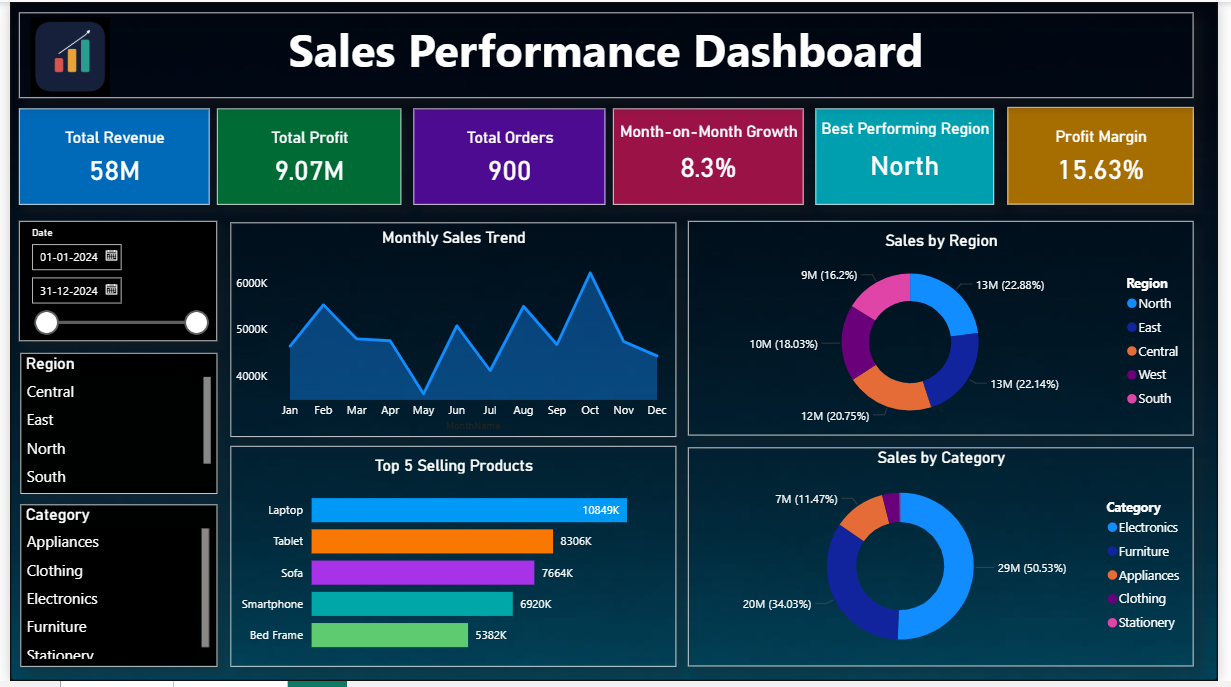

The dashboard page shown, as its layout file describes it:
{"tool":"powerbi","page":{"name":"Page 1","canvas":[1280,720],"ordinal":0},"visuals":[{"type":"card","title":"Total Revenue","fields":{"Values":["Business_Sales_Data_2024.Total_Revenue"]},"box":[9.5,112.9,202,101.8],"z":0},{"type":"card","title":"Total Profit","fields":{"Values":["Sum(Business_Sales_Data_2024.Profit)"]},"box":[219.5,112.9,195.6,101.8],"z":1000},{"type":"card","title":"Total Orders","fields":{"Values":["Business_Sales_Data_2024.Total_Orders"]},"box":[427.9,112.9,203.6,101.8],"z":2000},{"type":"card","title":"Month-on-Month Growth","fields":{"Values":["Business_Sales_Data_2024.MoM_Growth %"]},"box":[639.4,112.9,202,101.8],"z":3000},{"type":"card","title":"Best Performing Region","fields":{"Values":["Business_Sales_Data_2024.Best_Performing_Region"]},"box":[854.2,112.9,189.3,101.8],"z":4000},{"type":"card","title":"Profit Margin","fields":{"Values":["Business_Sales_Data_2024.Profit_Margin %"]},"box":[1057.8,111.3,197.2,103.4],"z":5000},{"type":"lineChart","title":"Monthly Sales Trend","fields":{"Y":["Sum(Business_Sales_Data_2024.Revenue)"],"Category":["DateTable.MonthName"]},"box":[233.8,233.8,472.4,227.5],"z":6000},{"type":"clusteredBarChart","title":" Top 5 Selling Products","fields":{"Category":["Business_Sales_Data_2024.Product"],"Y":["Sum(Business_Sales_Data_2024.Revenue)"]},"box":[233.8,470.8,472.4,233.8],"z":7000},{"type":"donutChart","title":" Sales by Region","fields":{"Category":["Business_Sales_Data_2024.Region"],"Y":["Sum(Business_Sales_Data_2024.Revenue)"]},"box":[719,232.2,536,227.5],"z":8000},{"type":"donutChart","title":"Sales by Category","fields":{"Y":["Sum(Business_Sales_Data_2024.Revenue)"],"Category":["Business_Sales_Data_2024.Category"]},"box":[719,472.4,536,232.2],"z":9000},{"type":"listSlicer","fields":{"Values":["Business_Sales_Data_2024.Region"]},"box":[11.1,372.2,208.4,149.5],"z":10000},{"type":"slicer","fields":{"Values":["DateTable.Date"]},"box":[9.5,232.2,210,127.2],"z":11000},{"type":"textbox","box":[9.5,11.1,1245.4,90.7],"z":12000},{"type":"image","box":[11.1,15.9,105,84.3],"z":13000},{"type":"listSlicer","fields":{"Values":["Business_Sales_Data_2024.Category"]},"box":[11.1,532.9,208.4,171.8],"z":14000}]}

Visuals, with their boxes in screenshot pixels (x1, y1, x2, y2), scaled from the page's 1280x720 canvas onto the 1231x687 screenshot:
"Total Revenue" card: {"left": 9, "top": 108, "right": 203, "bottom": 205}
"Total Profit" card: {"left": 211, "top": 108, "right": 399, "bottom": 205}
"Total Orders" card: {"left": 412, "top": 108, "right": 607, "bottom": 205}
"Month-on-Month Growth" card: {"left": 615, "top": 108, "right": 809, "bottom": 205}
"Best Performing Region" card: {"left": 822, "top": 108, "right": 1004, "bottom": 205}
"Profit Margin" card: {"left": 1017, "top": 106, "right": 1207, "bottom": 205}
"Monthly Sales Trend" lineChart: {"left": 225, "top": 223, "right": 679, "bottom": 440}
" Top 5 Selling Products" clusteredBarChart: {"left": 225, "top": 449, "right": 679, "bottom": 672}
" Sales by Region" donutChart: {"left": 691, "top": 222, "right": 1207, "bottom": 439}
"Sales by Category" donutChart: {"left": 691, "top": 451, "right": 1207, "bottom": 672}
listSlicer - Business_Sales_Data_2024.Region: {"left": 11, "top": 355, "right": 211, "bottom": 498}
slicer - DateTable.Date: {"left": 9, "top": 222, "right": 211, "bottom": 343}
textbox: {"left": 9, "top": 11, "right": 1207, "bottom": 97}
image: {"left": 11, "top": 15, "right": 112, "bottom": 96}
listSlicer - Business_Sales_Data_2024.Category: {"left": 11, "top": 508, "right": 211, "bottom": 672}
